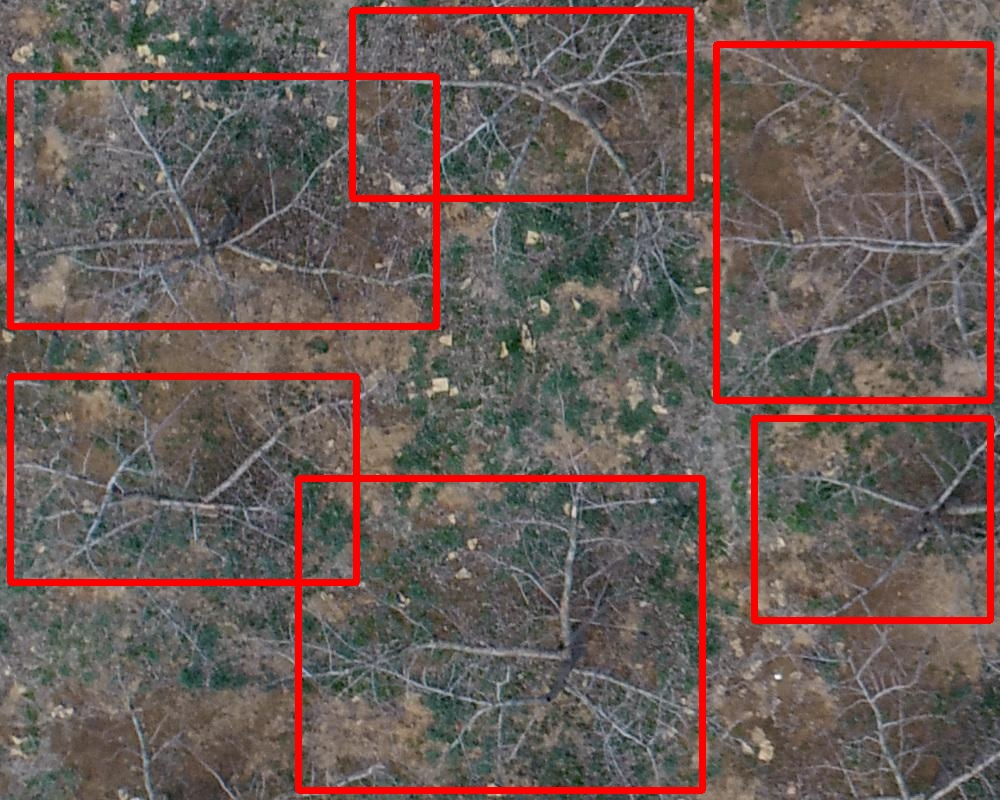apple: (298, 478, 702, 790), (10, 76, 436, 326), (716, 44, 990, 400), (10, 376, 356, 582), (352, 10, 690, 198), (754, 418, 990, 620)
